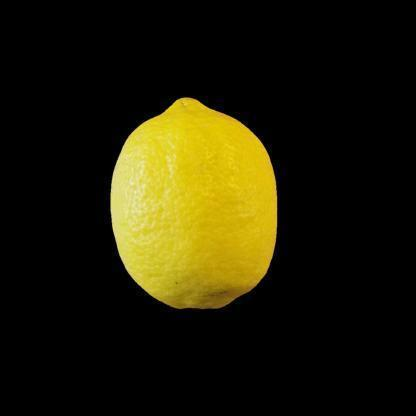lemon: (110, 96, 277, 310)
